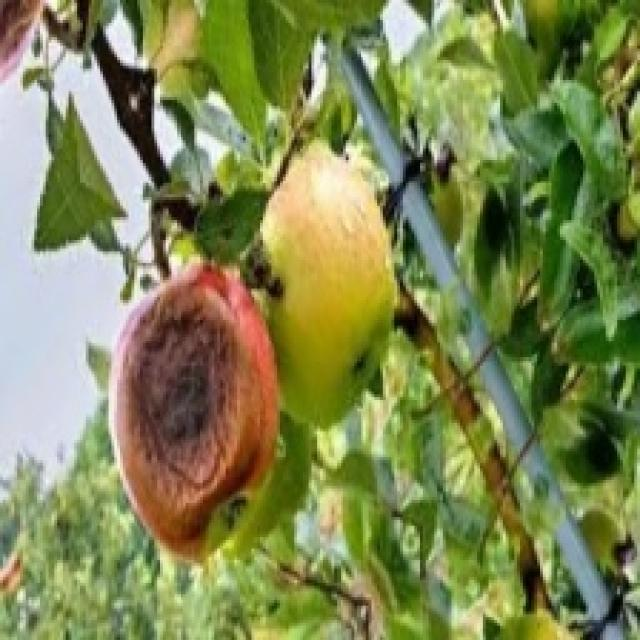rotten_apple: (114, 271, 280, 552)
